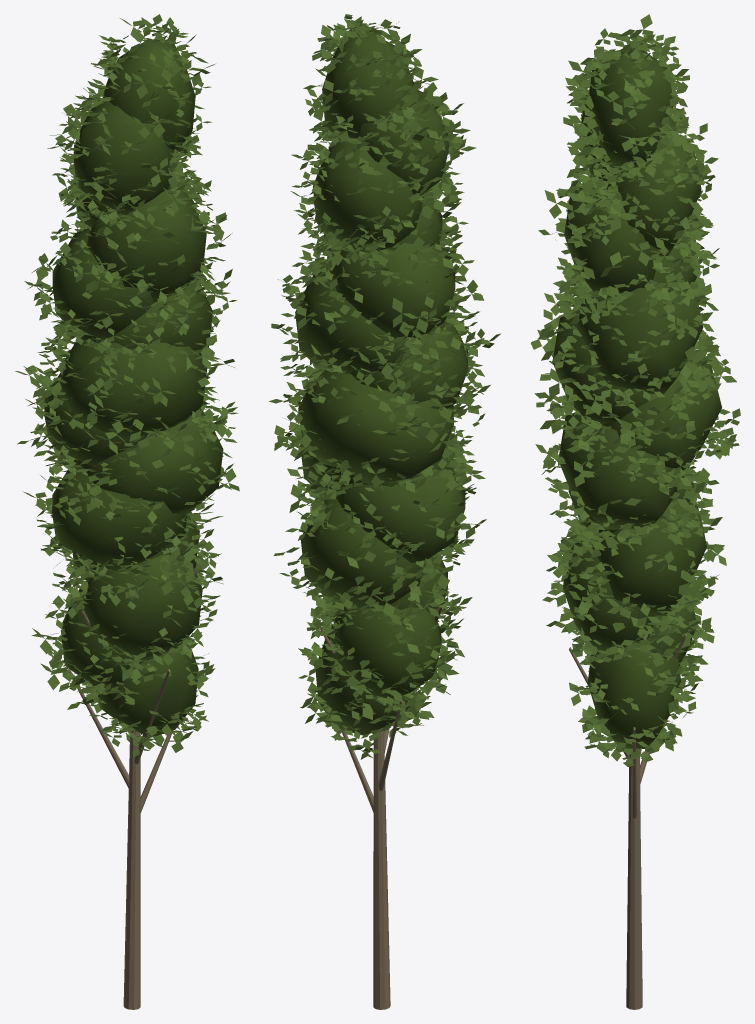
File: park_poplar.glb
3 views of the same model, side by side, from view 1: azimuth 30°, elevation 25°; view 2: azimuth 150°, elevation 25°; view 3: azimuth 270°, elevation 25° (orthographic).
Visible parts, largest first — view 1: Foliage_Core.003, Foliage.003, Wood.003; view 2: Foliage_Core.003, Foliage.003, Wood.003; view 3: Foliage.003, Foliage_Core.003, Wood.003.
Boxes of the visible parts, bbox=[...] form: Foliage_Core.003: bbox=[44, 39, 223, 737]; Foliage.003: bbox=[15, 14, 239, 757]; Wood.003: bbox=[58, 73, 216, 1009]; Foliage_Core.003: bbox=[295, 32, 468, 735]; Foliage.003: bbox=[269, 14, 500, 759]; Wood.003: bbox=[302, 93, 457, 1009]; Foliage.003: bbox=[530, 14, 740, 766]; Foliage_Core.003: bbox=[552, 47, 721, 748]; Wood.003: bbox=[568, 101, 720, 1009].
Bounding box in the file's own units: 3.3 × 15.6 × 3.01.
